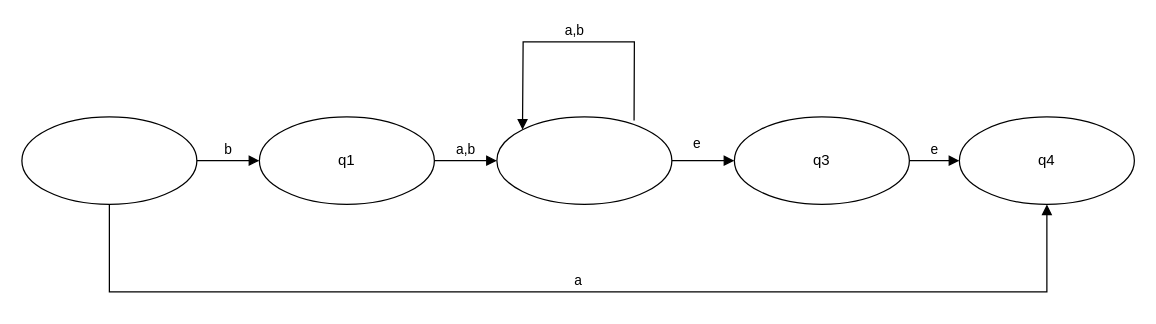
Image size: 1156x324. Some labels were removed from this diagram. Here are the shapes that lost their labels. From the top down, the centre of each, then its label:
point 109,160: q0
point 584,160: q2
